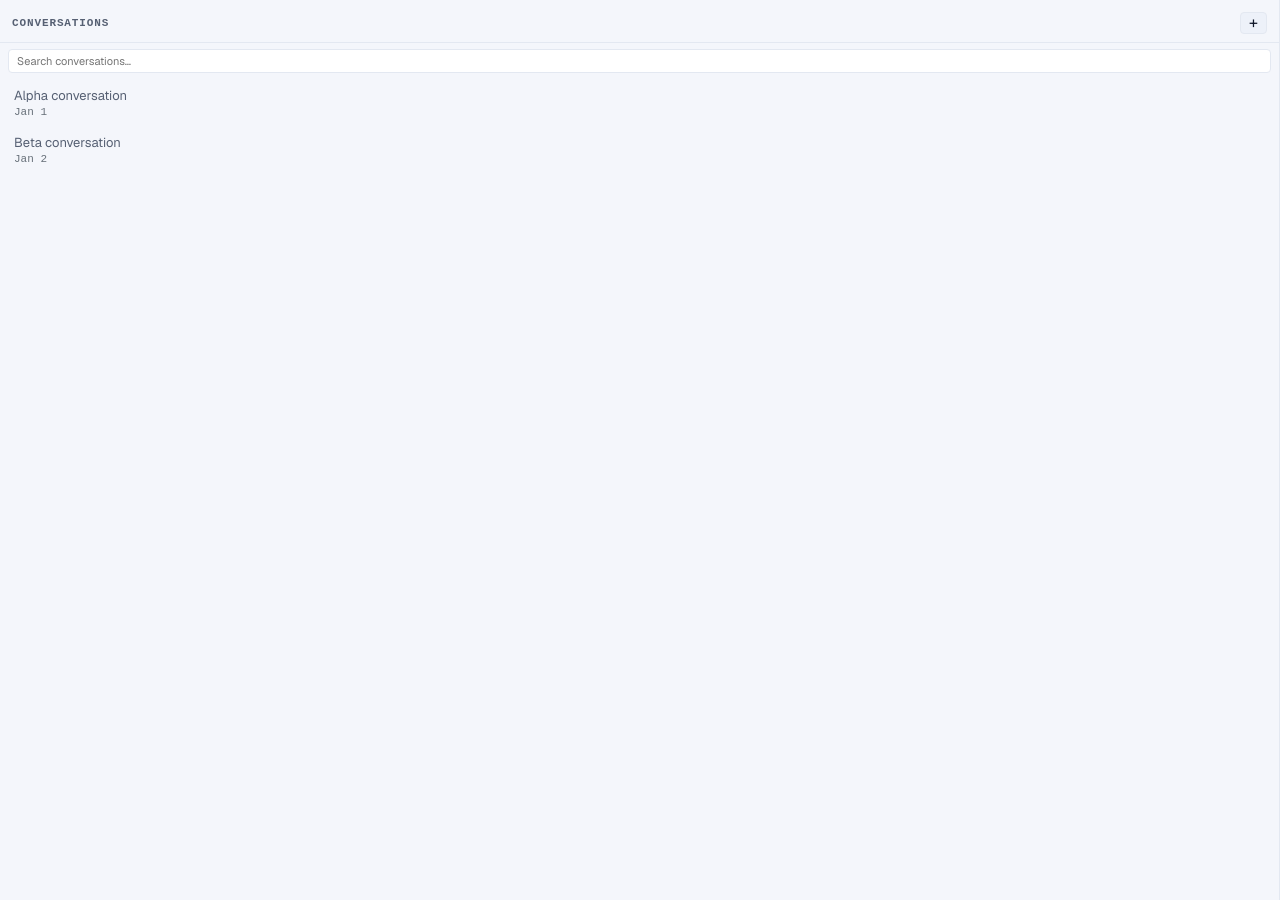
Test: ConversationList — R7-3 filter (AC-R7-3-3) › shows no-match message when filter has no results
In the search field with test id "conversation-filter-input": (640, 61) [8,49,1271,73], type "zzz_no_match"
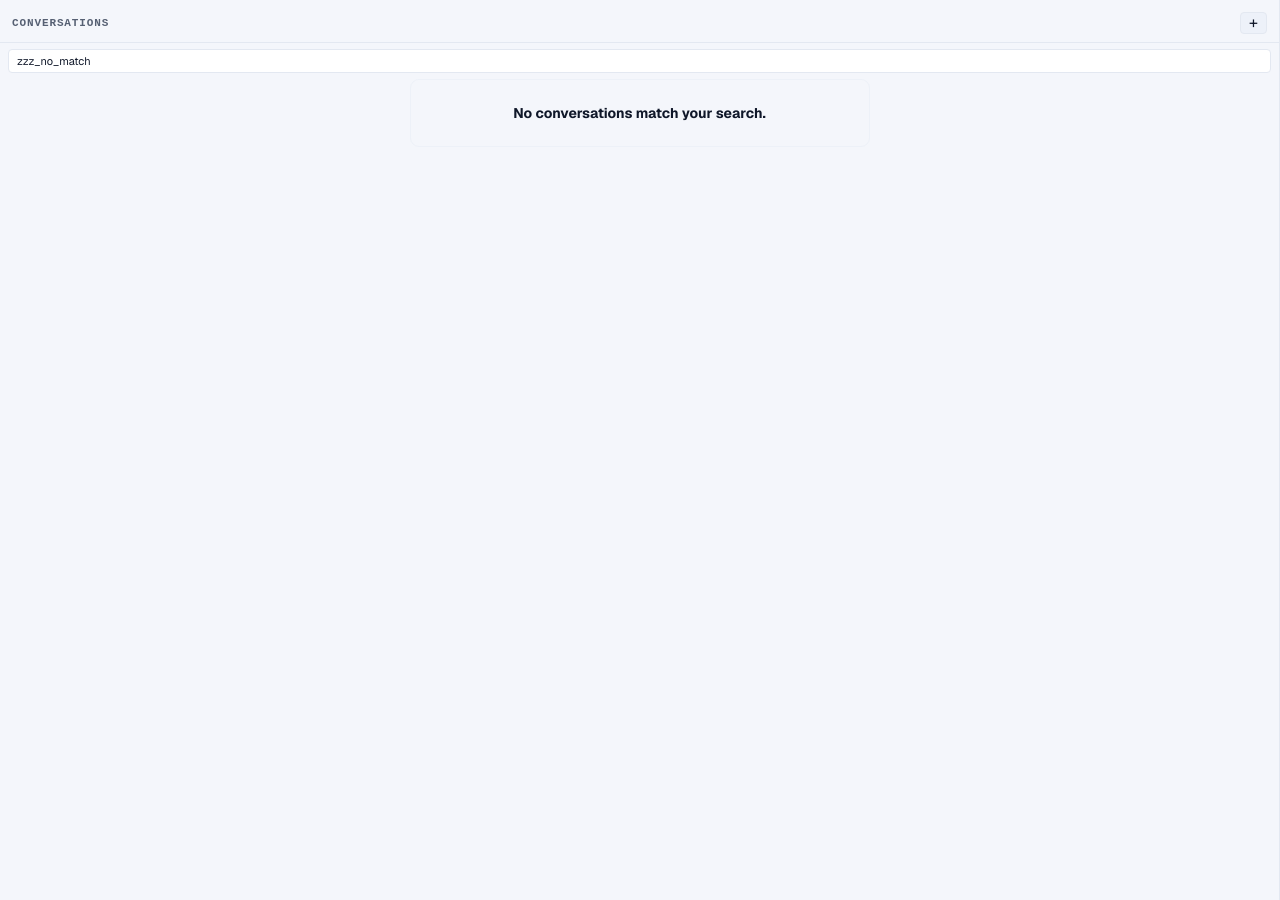
Now the text "No conversations match your search." is shown, box [513,104,766,122]
